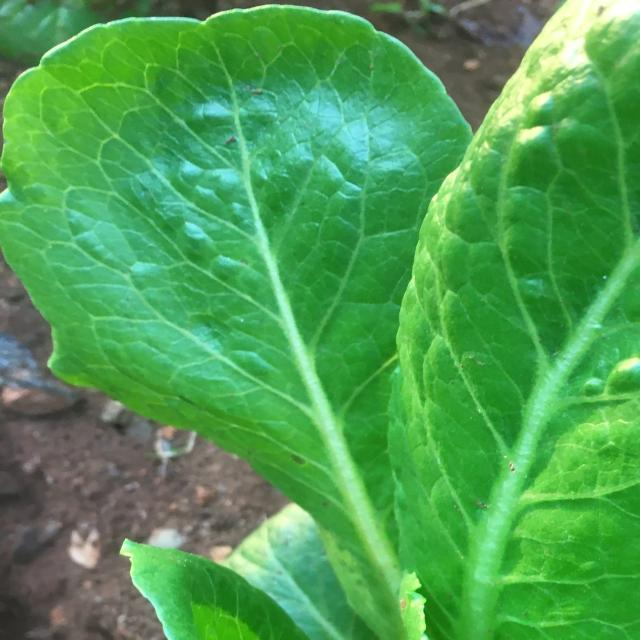Healthy Lettuce: (387, 1, 637, 636)
